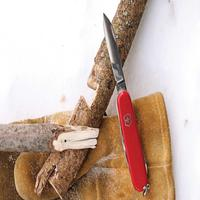knife: (96, 10, 157, 200)
